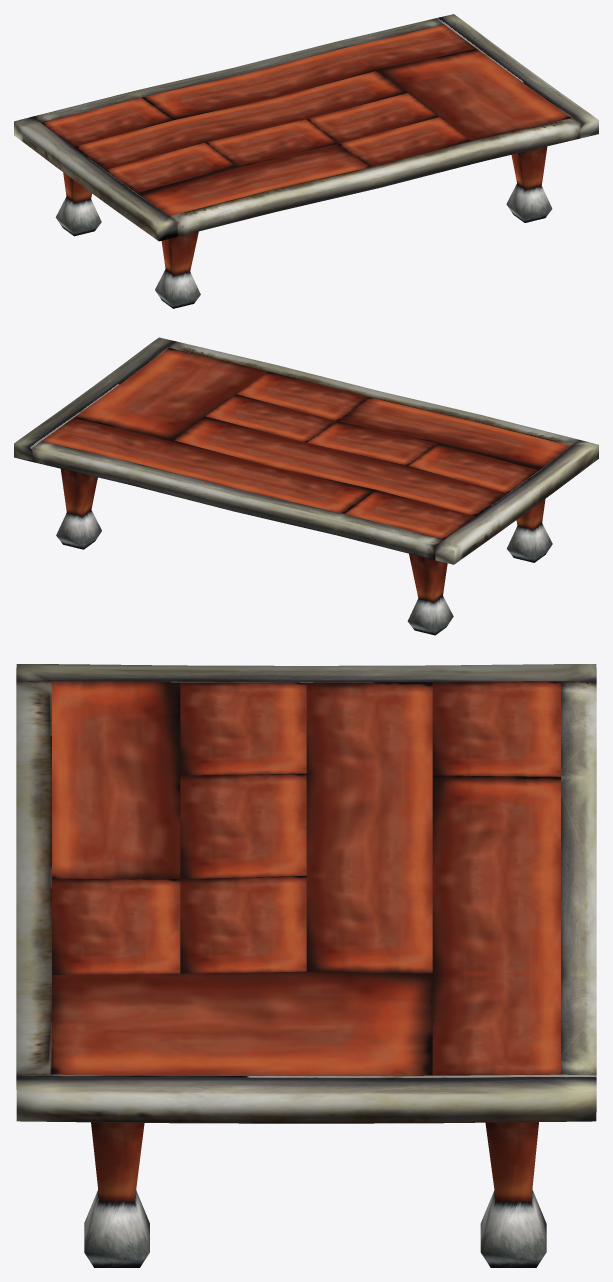
Rendered from table_wood_2m.DAE.
The picture shows the model from 3 angles, top to bottom: view 1: azimuth 30°, elevation 25°; view 2: azimuth 150°, elevation 25°; view 3: azimuth 270°, elevation 25°; orthographic projection. The views are drawn at different scales.
Visible parts, largest first — view 1: Box02; view 2: Box02; view 3: Box02.
Part boxes in pixels (x1=…): Box02: x1=14, y1=14, x2=598, y2=308; Box02: x1=14, y1=337, x2=598, y2=635; Box02: x1=16, y1=664, x2=596, y2=1267.
Bounding box in the file's own units: 2.17 × 0.5036 × 1.24.
